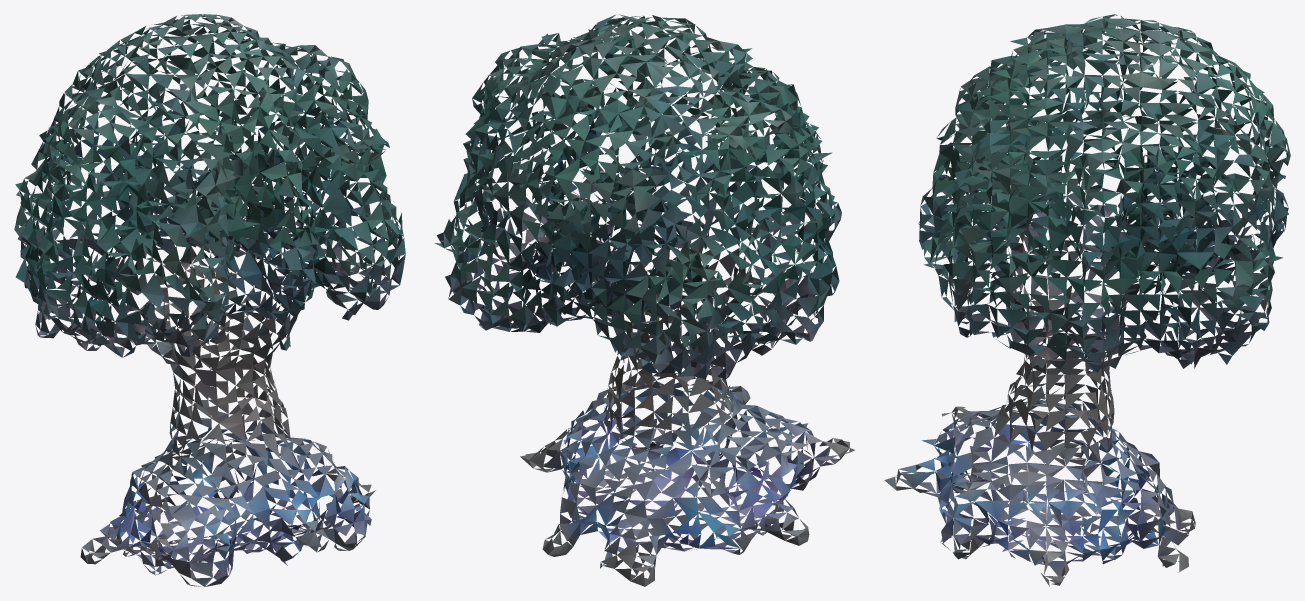
File: media_1787078412208.glb
3 views of the same model, side by side, from view 1: azimuth 30°, elevation 25°; view 2: azimuth 150°, elevation 25°; view 3: azimuth 270°, elevation 25° (orthographic). The views are drawn at different scales.
Bounding box in the file's own units: 0.5998 × 0.8397 × 0.5925.
